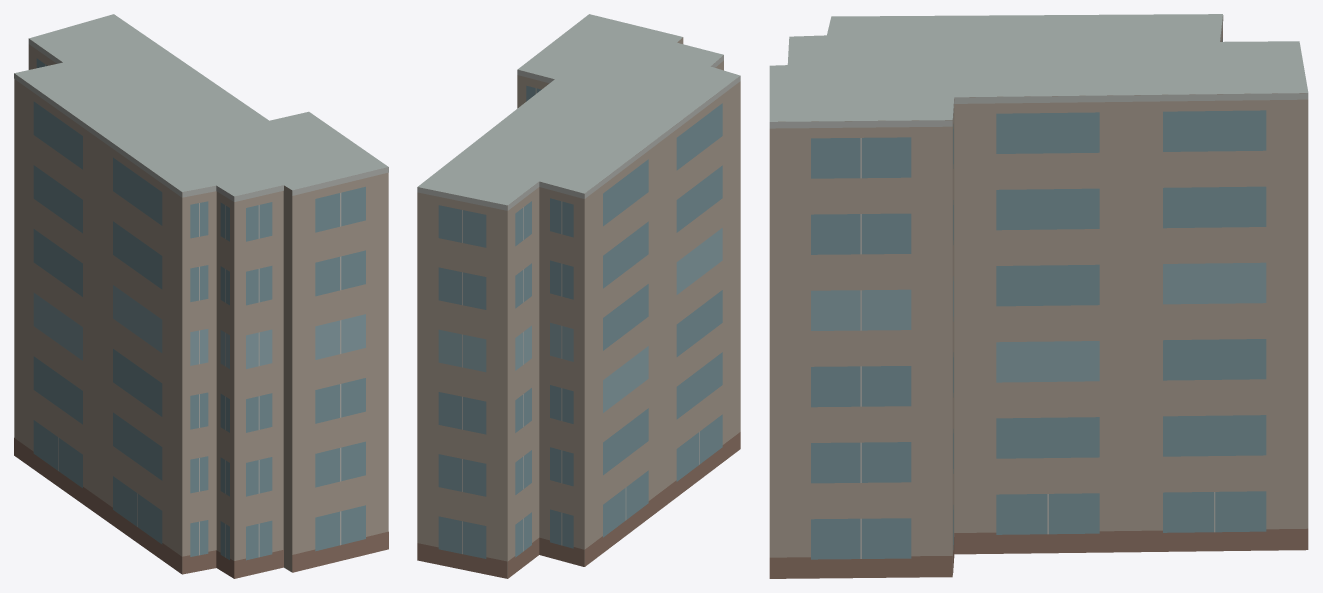
File: survey-upis-32566515.glb
3 renders of one model, left to right at view 1: azimuth 30°, elevation 25°; view 2: azimuth 150°, elevation 25°; view 3: azimuth 270°, elevation 25°, orthographic. The views are drawn at different scales.
Visible parts, largest first — view 1: survey-upis-32566515.tmp; view 2: survey-upis-32566515.tmp; view 3: survey-upis-32566515.tmp.
Part boxes in pixels (left/top/right/bottom): survey-upis-32566515.tmp: left=14, top=14, right=388, bottom=578; survey-upis-32566515.tmp: left=417, top=14, right=740, bottom=578; survey-upis-32566515.tmp: left=769, top=14, right=1308, bottom=578.
Bounding box in the file's own units: 8.46 × 16.7 × 17.86.
